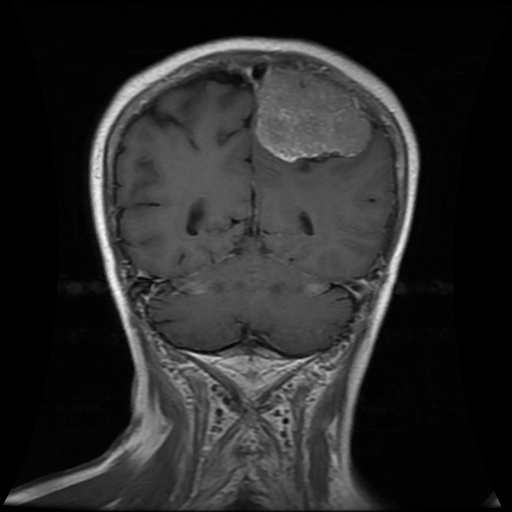meningioma: (255, 66, 373, 163)
